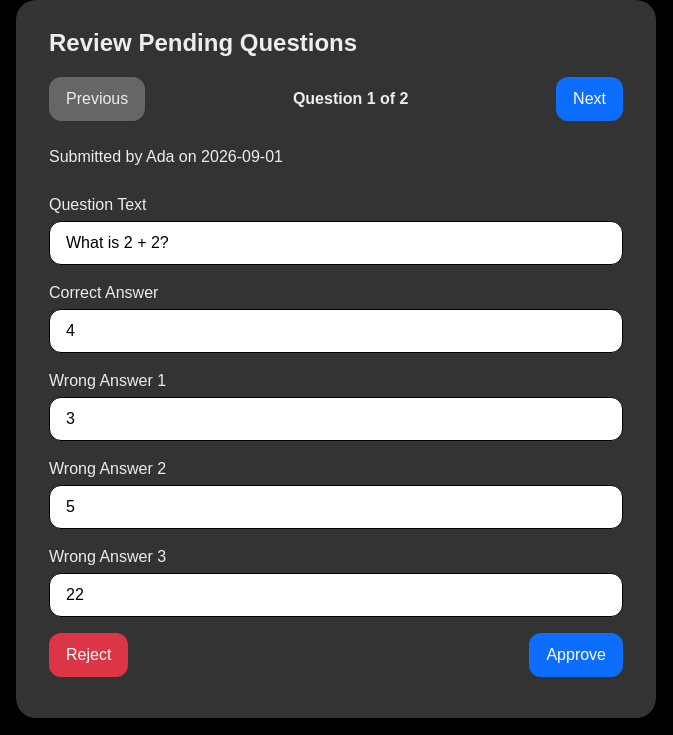
Test case: PendingQuestionsReview › moves to the next and previous questions
Click the button "Next": (590, 99) [556,77,623,121]
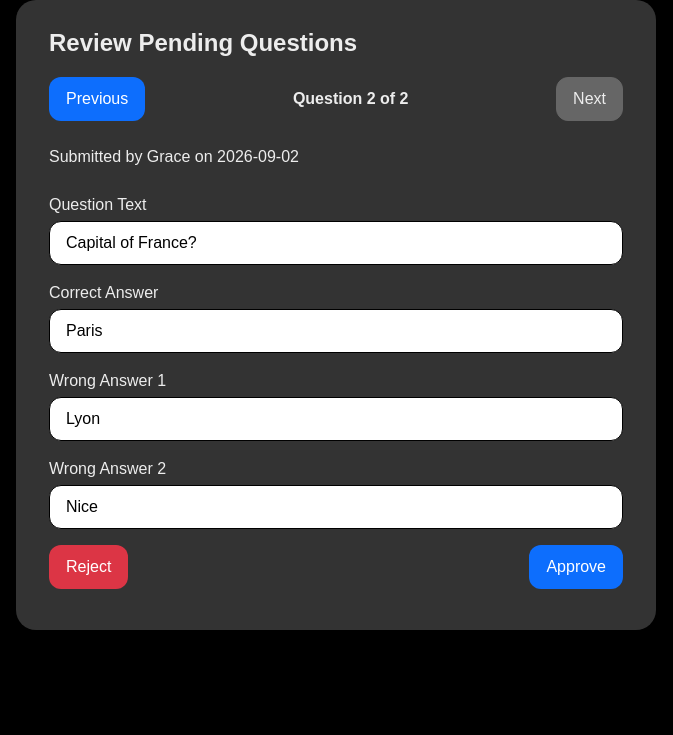
Expected: the text "Question 2 of 2" is shown, [293,87,408,111]
Expected: the field labelled "Question Text" holds "Capital of France?", [49,221,623,265]
Expected: the button "Next" is disabled, [556,77,623,121]
Click the button "Previous": (97, 99) [49,77,145,121]
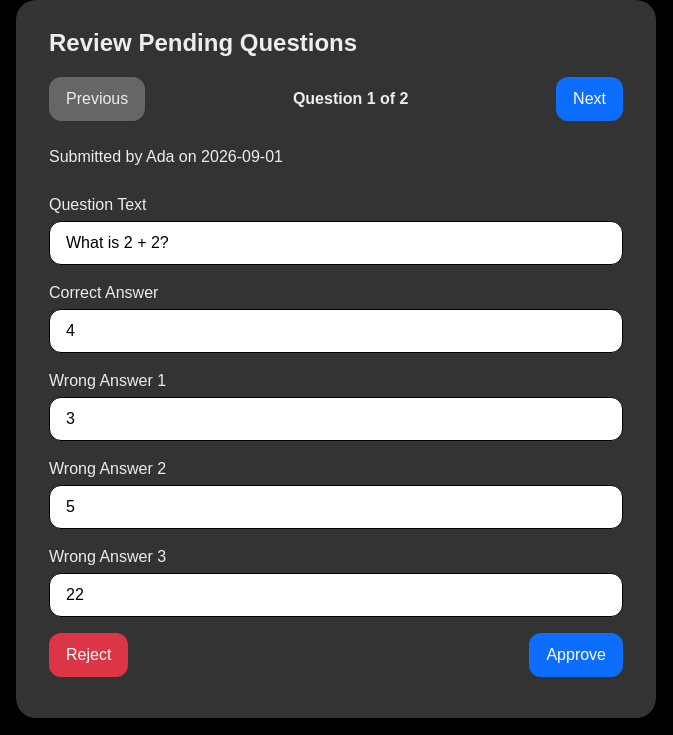
Expected: the field labelled "Question Text" holds "What is 2 + 2?", [49,221,623,265]
